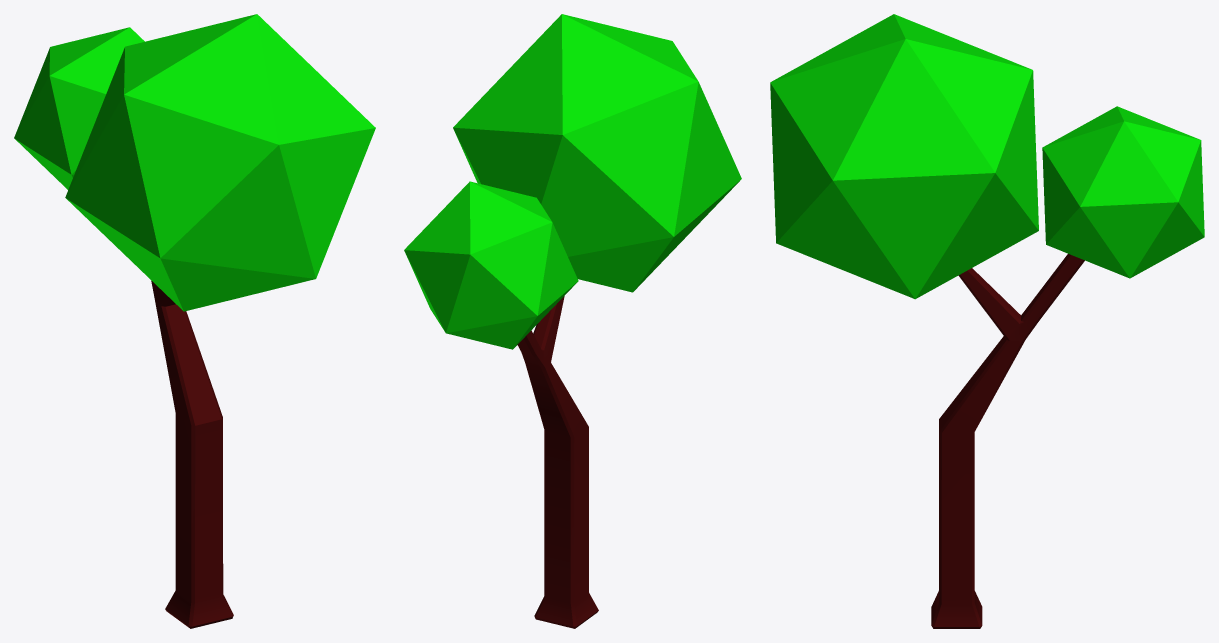
Rendered from Tree7.fbx.
The picture shows the model from 3 angles, left to right: view 1: azimuth 30°, elevation 25°; view 2: azimuth 150°, elevation 25°; view 3: azimuth 270°, elevation 25°; orthographic projection. The views are drawn at different scales.
Parts seen in each view (by area): view 1: pCube50; view 2: pCube50; view 3: pCube50.
Boxes of the visible parts, box(x1,y1,x2,y2) form: pCube50: box(14, 14, 375, 628); pCube50: box(404, 14, 741, 628); pCube50: box(770, 14, 1204, 628).
Size of the model in its own units: 7.44 by 18.38 by 12.17.
